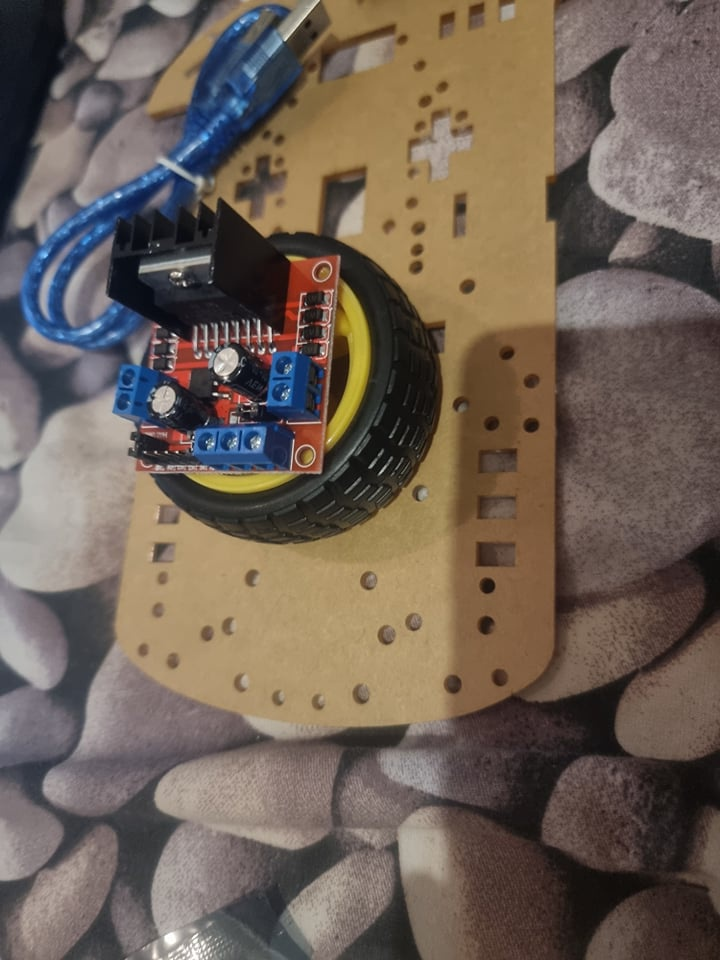MOTOR: (108, 185, 342, 475)
